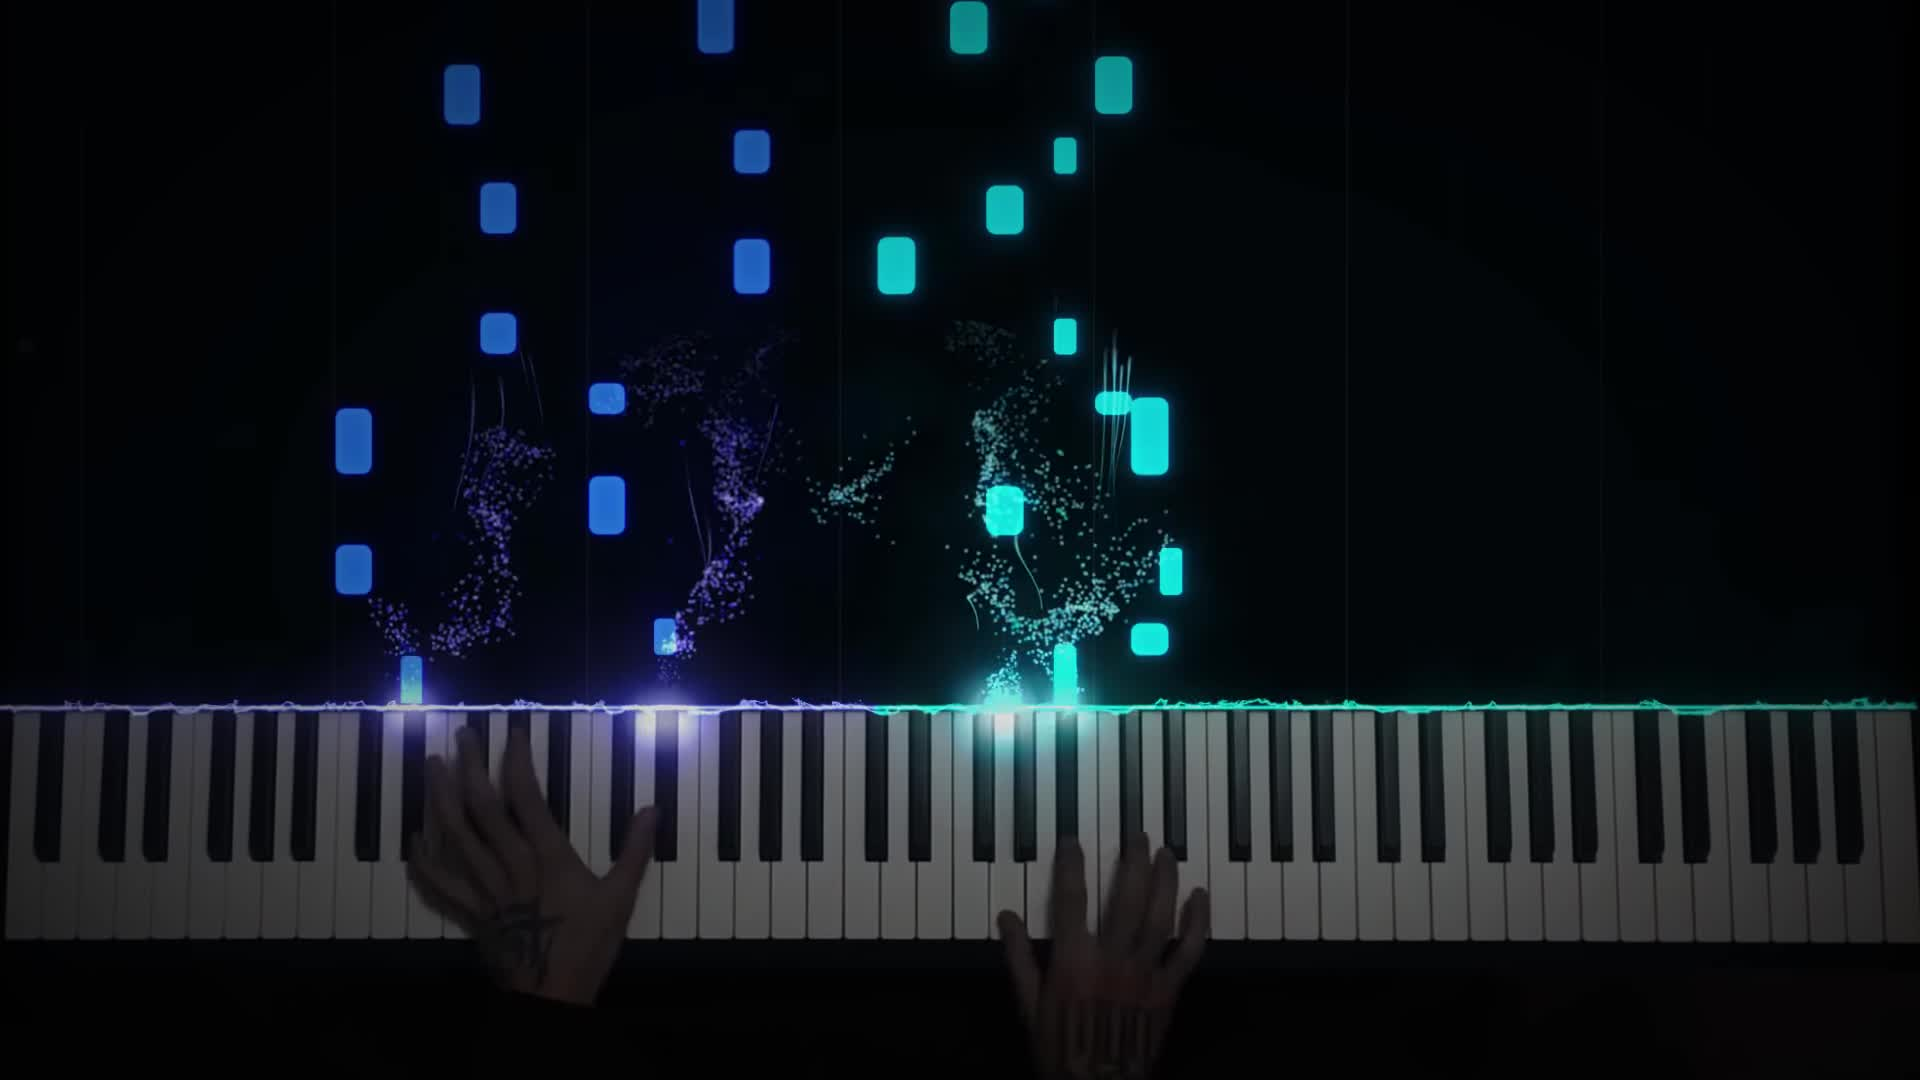left: (406, 720, 661, 992)
right: (996, 831, 1211, 1062)
